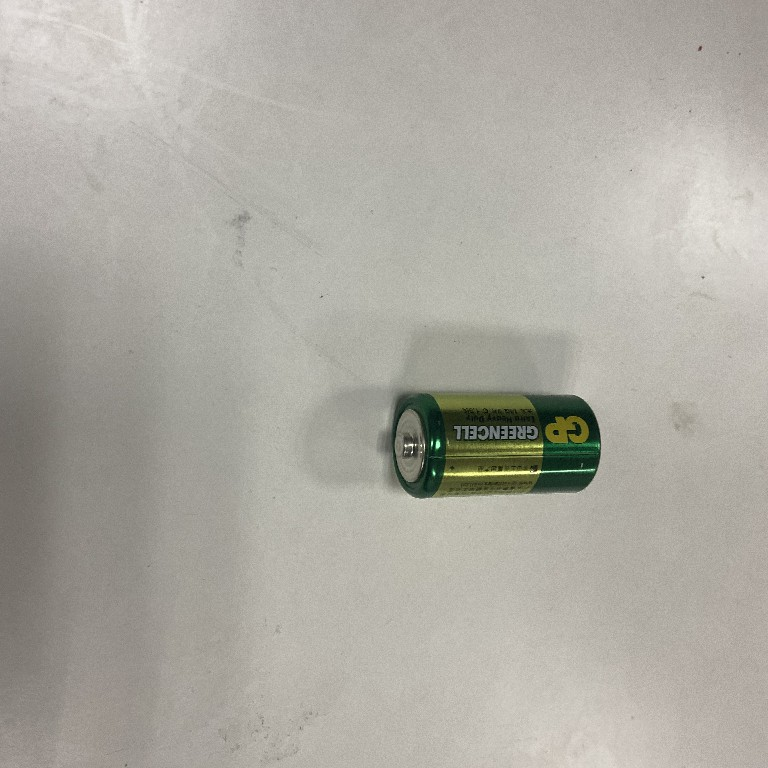charge: (387, 384, 603, 500)
